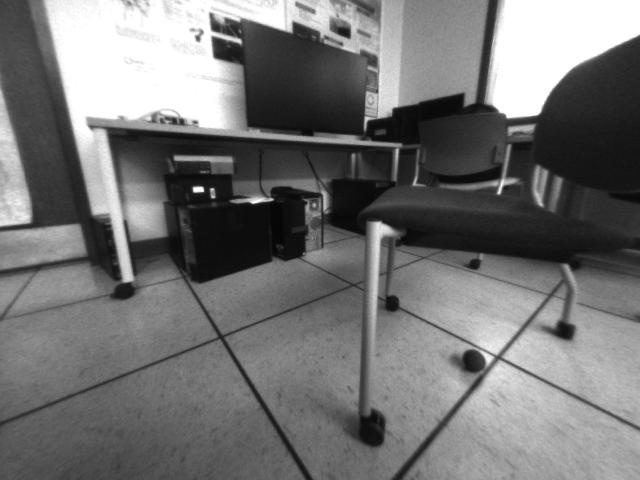dogtoy: (454, 341, 493, 379)
